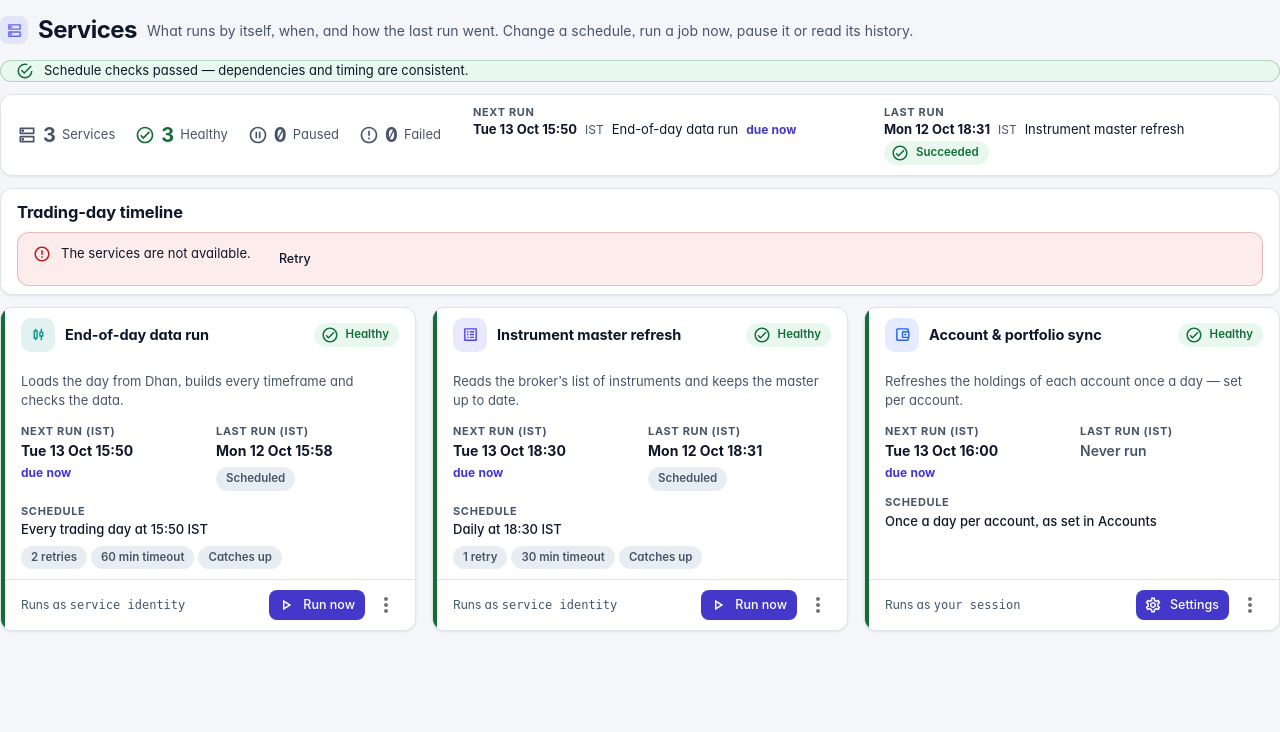
Test: Services: the trading-day timeline › shows a loading state, then an error with Retry that loads the timeline
Expected: the text "The services are not available." is shown, [61,244,251,263]
Expected: the list named "Services" is shown, [0,307,1279,631]
Click the button "Retry".
click(295, 259)  # box [263,244,327,274]
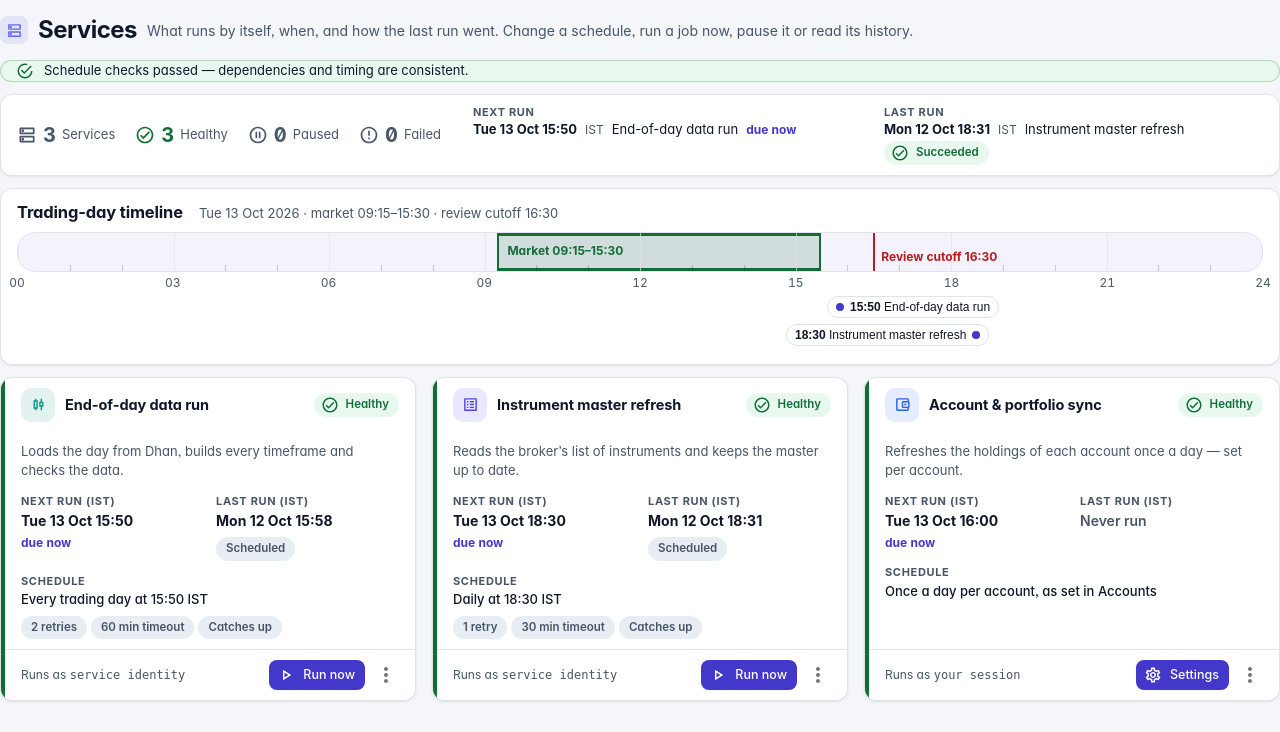
Expected: the button with aria-label "End-of-day data run starts at 15:50" is shown, [827,296,999,318]
